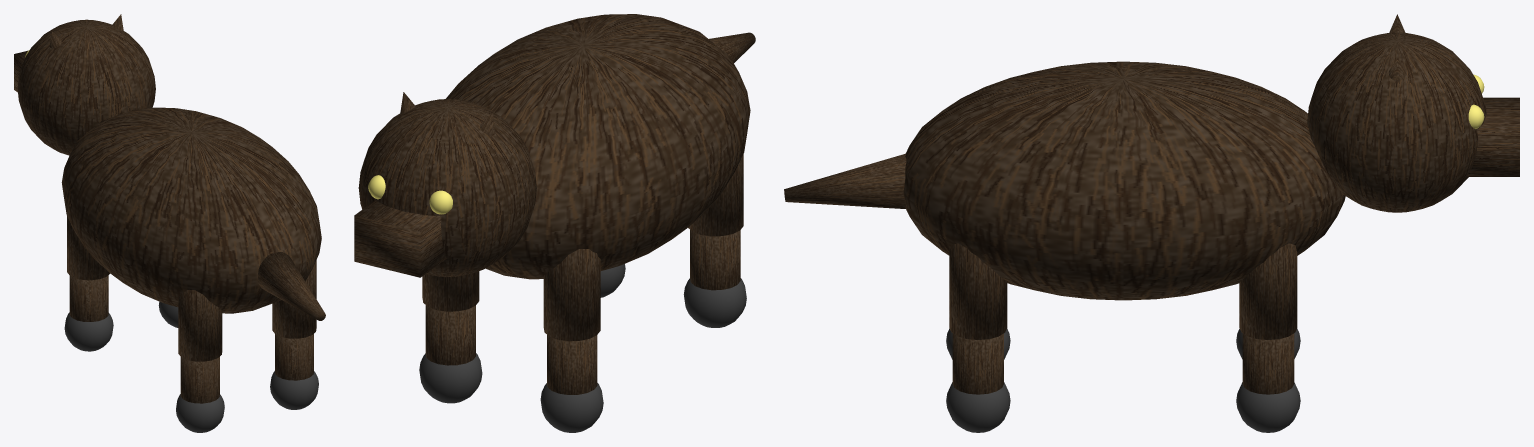
File: great-wolf.glb
The picture shows the model from 3 angles, left to right: view 1: azimuth 30°, elevation 25°; view 2: azimuth 150°, elevation 25°; view 3: azimuth 270°, elevation 25°; orthographic projection. The views are drawn at different scales.
Parts seen in each view (by area): view 1: Body, Head, LegUpper, Tail, LegLower, LegLower.001, LegLower.002, LegUpper.002, Paw.001, Paw, Paw.002, LegUpper.001 (+1 smaller); view 2: Body, Head, Snout, LegUpper.001, LegLower.003, LegLower, LegLower.001, Paw.003, Paw.001, Paw, LegUpper, LegUpper.003 (+3 smaller); view 3: Body, Head, LegUpper.003, LegUpper.002, Tail, Snout, LegLower.003, LegLower.002, Paw.002, Paw.003.
Boxes of the visible parts, x1=… form: Body: x1=61, y1=107, x2=321, y2=313; Head: x1=17, y1=19, x2=155, y2=155; LegUpper: x1=178, y1=290, x2=222, y2=361; Tail: x1=258, y1=252, x2=325, y2=320; LegLower: x1=180, y1=357, x2=219, y2=403; LegLower.001: x1=69, y1=275, x2=108, y2=321; LegLower.002: x1=275, y1=334, x2=313, y2=380; LegUpper.002: x1=272, y1=260, x2=316, y2=338; Paw.001: x1=64, y1=312, x2=113, y2=351; Paw: x1=176, y1=394, x2=224, y2=432; Paw.002: x1=270, y1=371, x2=318, y2=409; LegUpper.001: x1=67, y1=216, x2=109, y2=280; Body: x1=446, y1=14, x2=750, y2=279; Head: x1=358, y1=99, x2=536, y2=276; Snout: x1=354, y1=200, x2=446, y2=277; LegUpper.001: x1=543, y1=249, x2=600, y2=341; LegLower.003: x1=425, y1=305, x2=475, y2=365; LegLower: x1=690, y1=230, x2=740, y2=290; LegLower.001: x1=547, y1=335, x2=597, y2=394; Paw.003: x1=419, y1=353, x2=482, y2=403; Paw.001: x1=540, y1=383, x2=603, y2=432; Paw: x1=683, y1=278, x2=746, y2=327; LegUpper: x1=688, y1=154, x2=743, y2=236; LegUpper.003: x1=422, y1=271, x2=479, y2=311; Body: x1=903, y1=61, x2=1345, y2=300; Head: x1=1307, y1=32, x2=1486, y2=212; LegUpper.003: x1=1239, y1=243, x2=1297, y2=339; LegUpper.002: x1=949, y1=243, x2=1007, y2=339; Tail: x1=784, y1=153, x2=906, y2=208; Snout: x1=1467, y1=97, x2=1519, y2=176; LegLower.003: x1=1242, y1=333, x2=1294, y2=394; LegLower.002: x1=952, y1=333, x2=1003, y2=394; Paw.002: x1=946, y1=382, x2=1010, y2=432; Paw.003: x1=1236, y1=382, x2=1300, y2=432.
Size of the model in its own units: 0.7196 by 0.986 by 1.8.
Materials: 3 (1 with a texture image).
